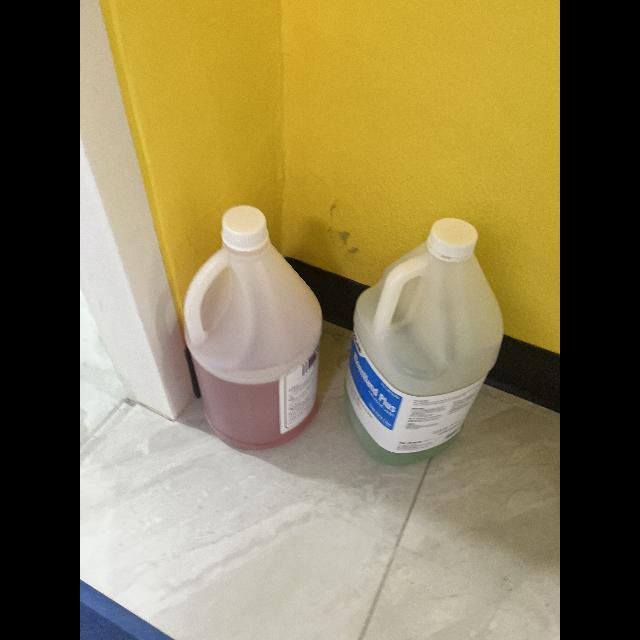chemical_plastic_gallon: (339, 207, 515, 476), (176, 194, 324, 460)
